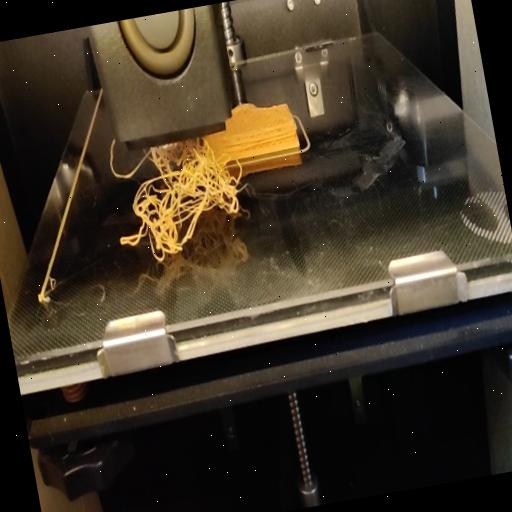spaghetti: (105, 130, 254, 266)
